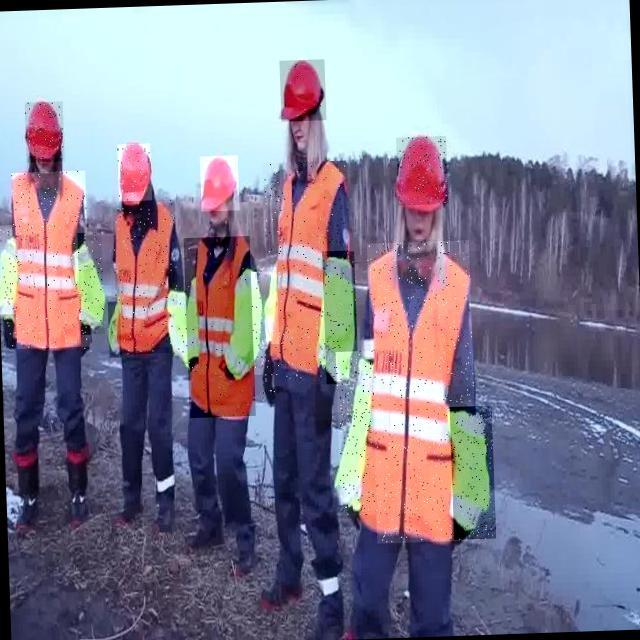Gloves: (301, 363, 341, 442), (255, 345, 285, 413), (0, 310, 22, 365)
Helmet: (396, 136, 448, 206), (279, 59, 326, 122), (25, 101, 65, 163), (117, 143, 152, 209), (199, 155, 239, 211)
Person: (363, 109, 498, 640), (260, 30, 358, 640), (0, 89, 100, 575), (103, 123, 184, 558), (186, 134, 258, 593)
Safety Boot: (247, 553, 308, 622), (5, 454, 42, 549), (57, 444, 92, 530), (103, 470, 147, 534), (306, 570, 345, 640), (226, 520, 274, 573), (148, 469, 183, 536), (188, 509, 224, 557)
Safety Vest: (367, 240, 479, 543), (263, 161, 354, 382), (11, 170, 91, 349), (190, 234, 262, 416), (112, 199, 179, 354), (450, 405, 492, 544), (341, 358, 375, 515), (314, 253, 357, 374), (227, 270, 262, 386), (68, 248, 105, 326), (158, 289, 185, 363), (1, 238, 21, 320), (183, 293, 203, 372)
